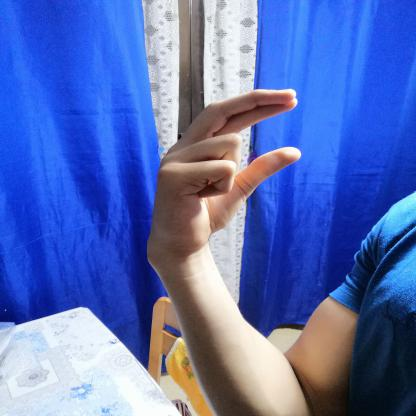DHELL: (133, 79, 314, 262)
